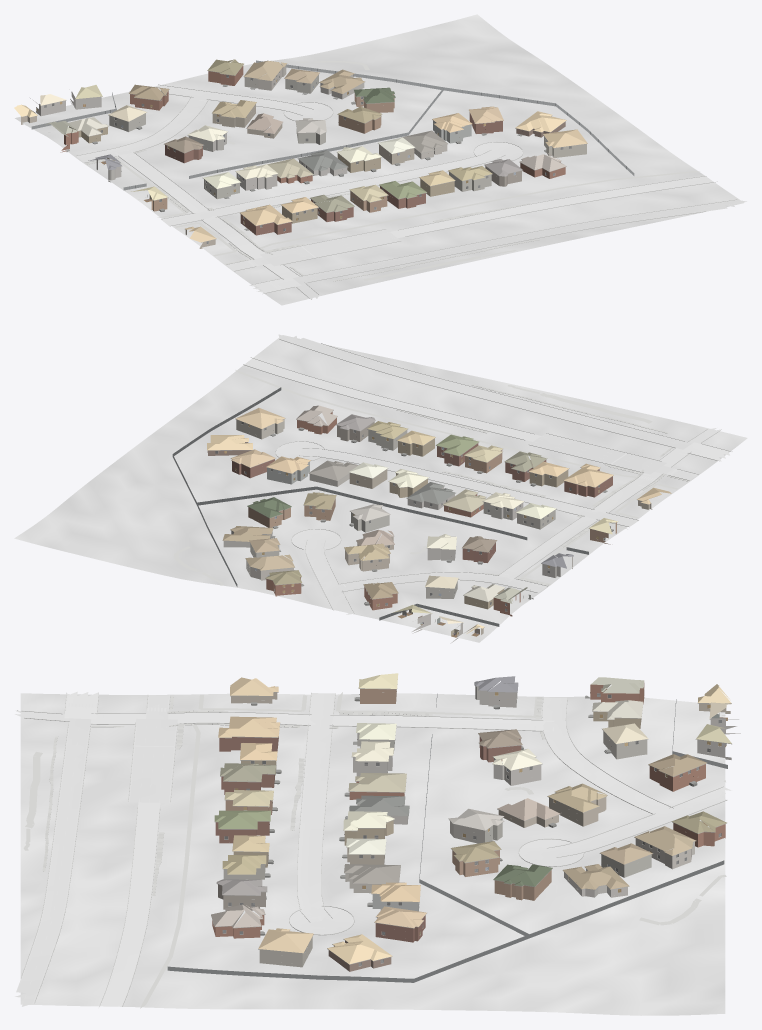
The picture shows the model from 3 angles, top to bottom: view 1: azimuth 30°, elevation 25°; view 2: azimuth 150°, elevation 25°; view 3: azimuth 270°, elevation 25°; orthographic projection. The views are drawn at different scales.
Parts seen in each view (by area): view 1: ground, roof, concrete, asphalt, wall, wall_stucco, curb, walk, chain, detail, wall_stone, mark_w; view 2: ground, roof, concrete, asphalt, wall, wall_stucco, curb, walk, detail, chain, wall_stone, mark_w; view 3: ground, roof, concrete, asphalt, wall, wall_stucco, walk, curb, detail, chain, wall_stone, mark_w (+2 smaller).
Boxes of the visible parts, x1,y1,x2,y2 form: ground: [15, 14, 743, 305]; roof: [14, 59, 587, 242]; concrete: [76, 85, 522, 299]; asphalt: [226, 176, 746, 292]; wall: [60, 66, 565, 235]; wall_stucco: [21, 65, 586, 248]; curb: [76, 84, 737, 299]; walk: [85, 60, 699, 281]; chain: [31, 60, 634, 190]; detail: [22, 61, 626, 244]; wall_stone: [31, 74, 364, 190]; mark_w: [129, 100, 731, 292]; ground: [14, 335, 747, 642]; roof: [207, 405, 671, 633]; concrete: [276, 428, 721, 614]; asphalt: [244, 334, 729, 480]; wall: [207, 412, 616, 616]; wall_stucco: [236, 419, 652, 634]; curb: [243, 339, 732, 613]; walk: [173, 370, 688, 615]; detail: [182, 389, 650, 635]; chain: [172, 387, 588, 626]; wall_stone: [223, 487, 572, 643]; mark_w: [249, 342, 726, 586]; ground: [20, 693, 725, 1015]; roof: [211, 673, 731, 964]; concrete: [15, 693, 731, 934]; asphalt: [15, 691, 177, 1006]; wall: [212, 683, 725, 971]; wall_stucco: [223, 692, 730, 967]; walk: [23, 692, 726, 1008]; curb: [17, 692, 727, 1006]; detail: [167, 684, 738, 981]; chain: [168, 699, 727, 982]; wall_stone: [353, 686, 740, 897]; mark_w: [20, 693, 657, 1006].
Size of the model in its own units: 257 by 17.45 by 260.
